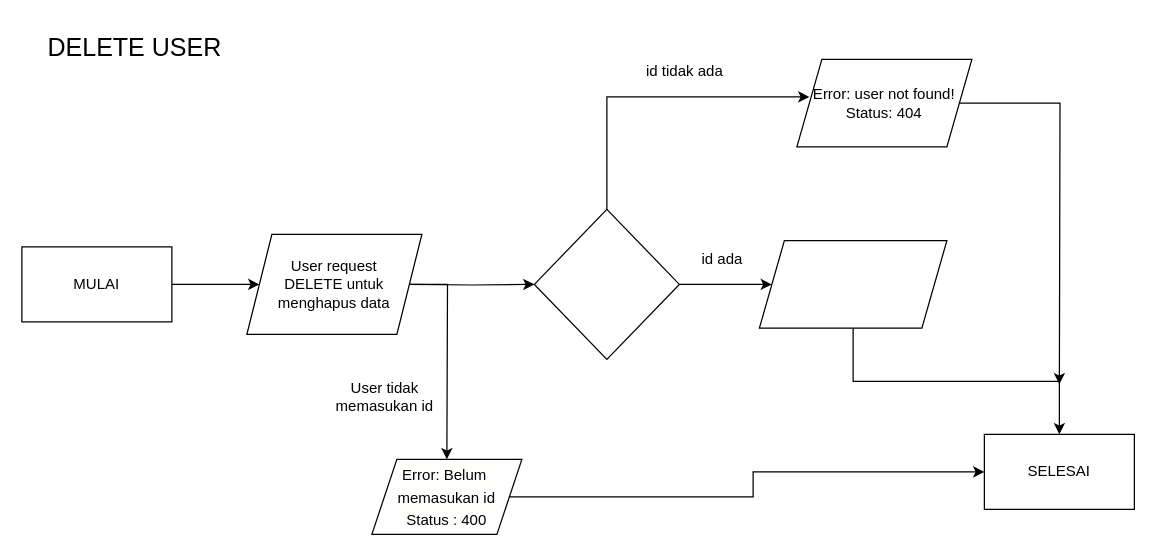
This 1156x556 diagram has some shape labels left out. Here are the shapes that lost their labels. From the top down, the box of each, then its label:
(533, 208, 679, 359): User memasukan id
(758, 239, 947, 328): Delete Success Status : 200
